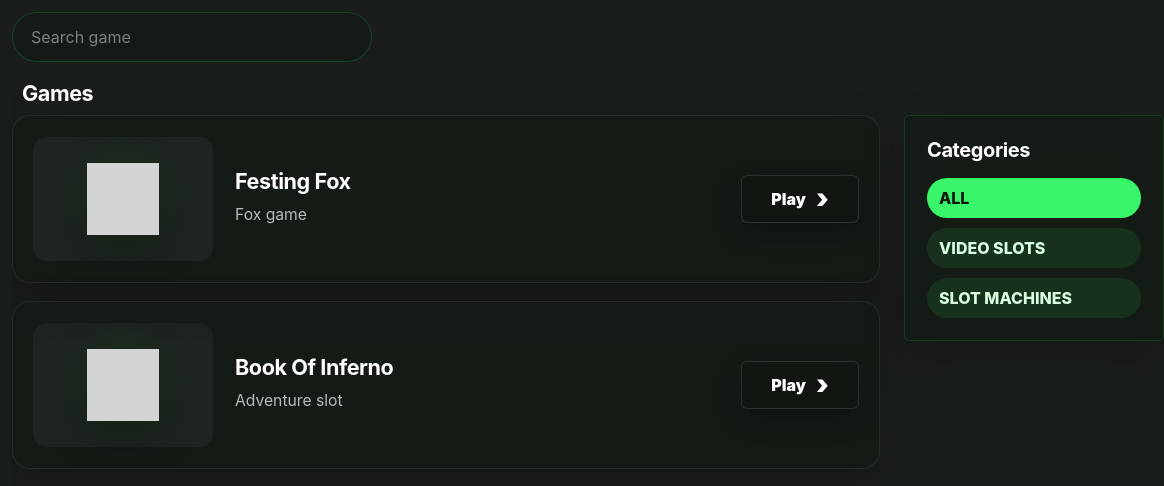
Test: GamesPage › filters visible games by search term
Check: the heading "Festing Fox" is shown, box [235,168,351,194]
In the field named "search games": (192, 37) [12,12,372,62], type "book"
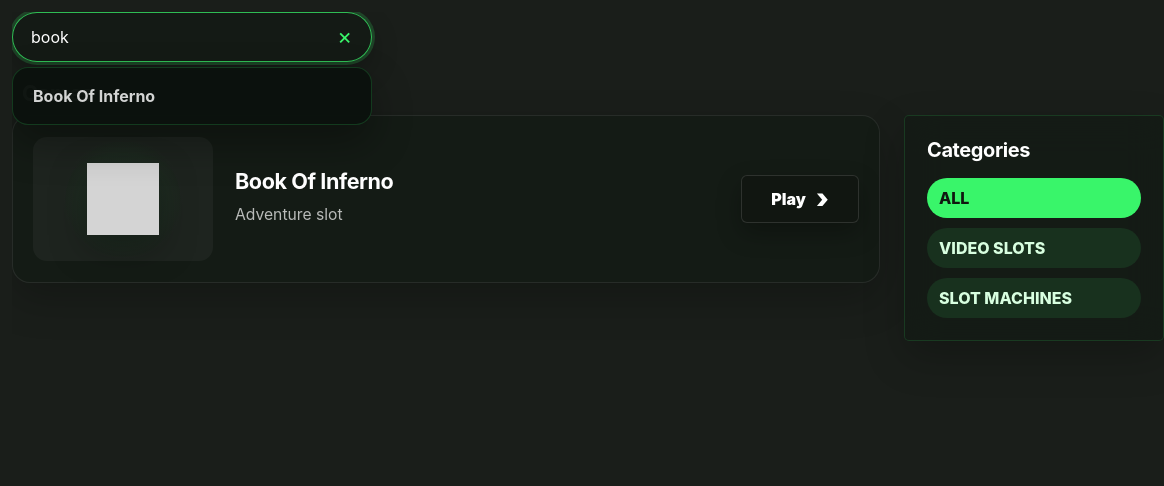
Check: the heading "Book Of Inferno" is shown, box [235,168,393,194]
Check: the heading "Festing Fox" is gone
